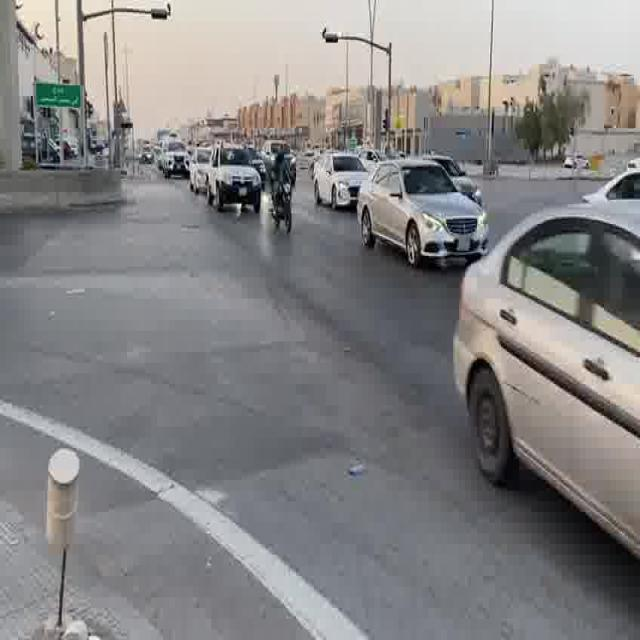bus: (356, 159, 486, 270), (315, 153, 370, 210), (212, 148, 261, 211), (189, 150, 212, 197), (604, 170, 638, 201), (165, 151, 189, 179), (297, 152, 317, 174), (140, 152, 153, 164)
car: (179, 209, 640, 640), (356, 159, 486, 270), (315, 153, 370, 210), (212, 148, 261, 211), (189, 150, 212, 197), (604, 170, 638, 201), (165, 151, 189, 179), (297, 152, 317, 174), (140, 152, 153, 164)
lanes: (179, 209, 640, 640), (226, 209, 639, 634)
lanes2: (226, 209, 639, 634), (260, 205, 640, 474)
lanes3: (260, 205, 640, 474), (286, 201, 640, 404)
lanes4: (286, 201, 640, 404), (327, 192, 640, 313)
lanes5: (327, 192, 640, 313), (270, 167, 295, 233)
motorbike: (270, 167, 295, 233)
